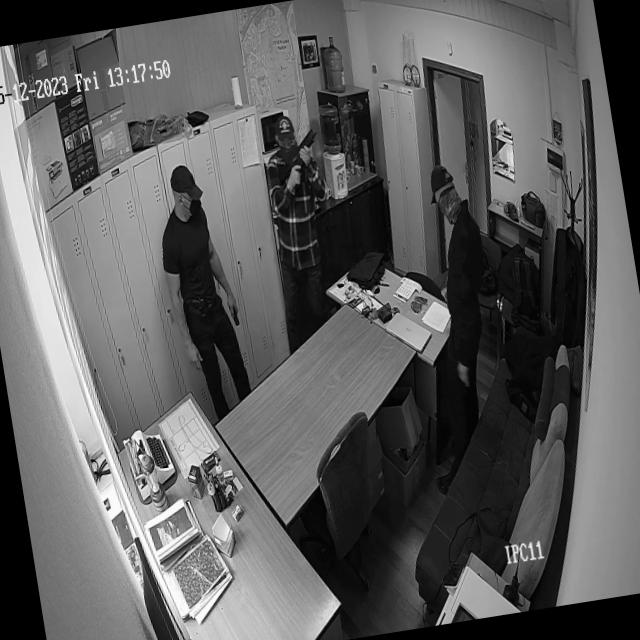gun: (280, 120, 322, 168)
person: (145, 161, 274, 426), (418, 161, 514, 449)
person with a gun: (252, 93, 344, 323)
